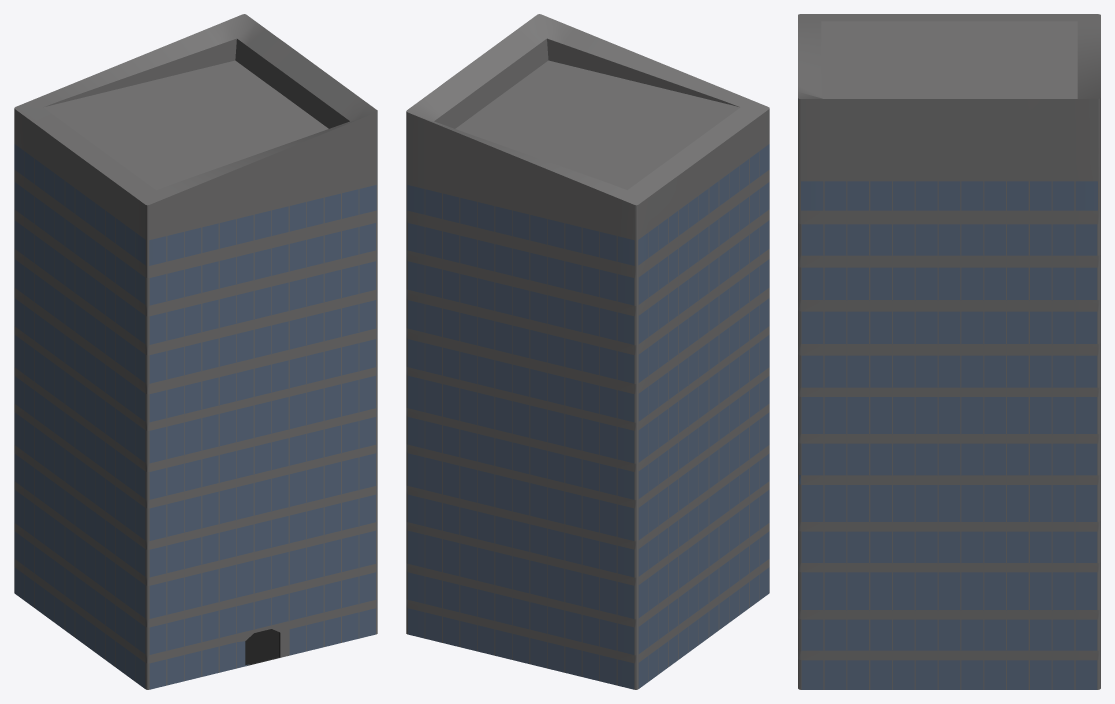
Rendered from OfficeBuilding.fbx.
3 renders of one model, left to right at view 1: azimuth 30°, elevation 25°; view 2: azimuth 150°, elevation 25°; view 3: azimuth 270°, elevation 25°, orthographic. The views are drawn at different scales.
Visible parts, largest first — view 1: OfficBuilding; view 2: OfficBuilding; view 3: OfficBuilding.
Boxes of the visible parts, x1,y1,x2,y2 form: OfficBuilding: [14, 14, 377, 689]; OfficBuilding: [406, 14, 769, 689]; OfficBuilding: [798, 14, 1100, 689].
Size of the model in its own units: 40 by 86.13 by 40.
